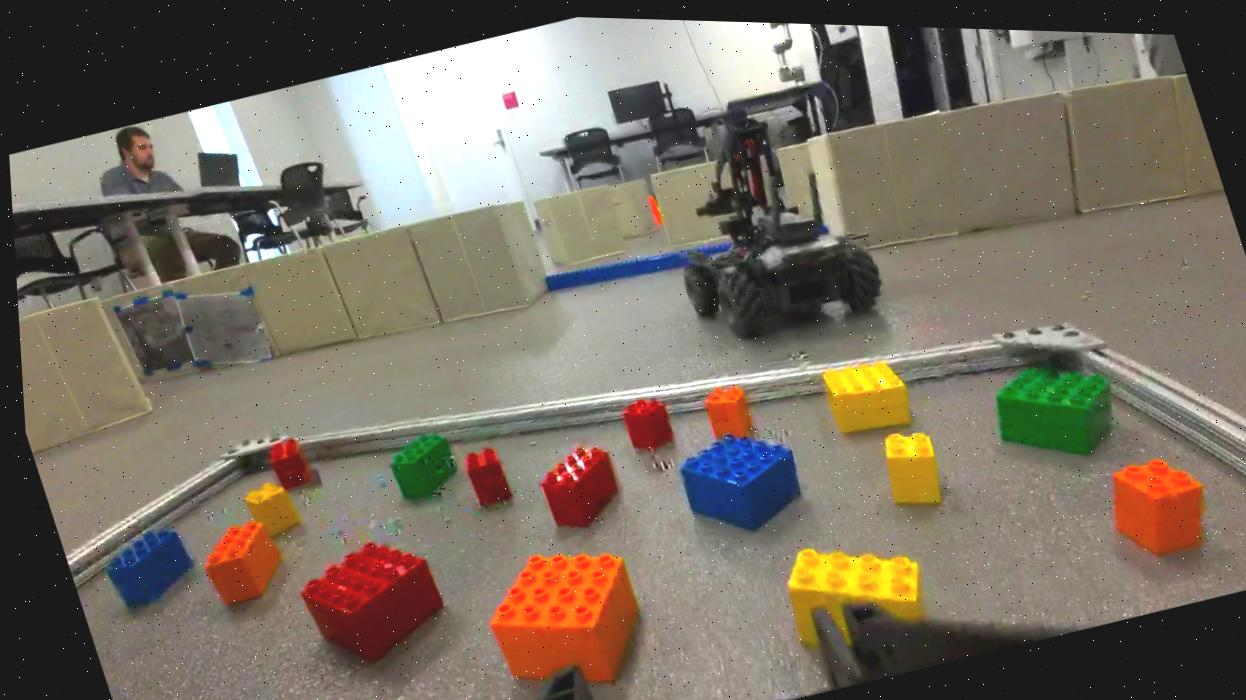2x2lego: (1091, 439, 1216, 559), (870, 415, 945, 510), (610, 382, 677, 454), (235, 478, 298, 542), (452, 438, 509, 508), (691, 374, 752, 434)
2x4lego: (766, 512, 932, 645), (87, 514, 198, 616), (526, 432, 628, 534), (187, 514, 284, 610), (378, 424, 463, 507), (255, 429, 312, 495)
4x4lego: (458, 522, 659, 700), (282, 524, 452, 673), (977, 337, 1129, 473), (664, 412, 813, 543), (810, 346, 915, 437)
